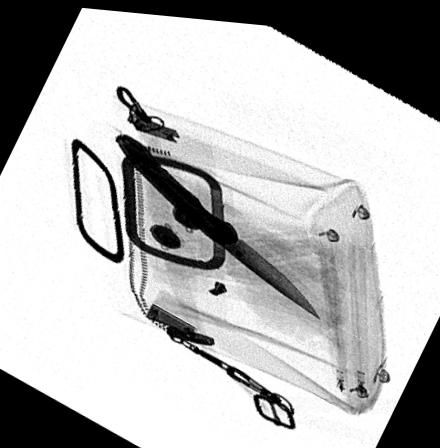Knife: (114, 130, 320, 314)
